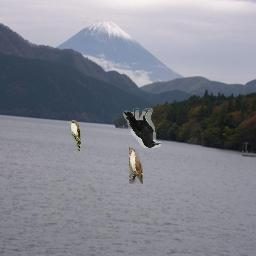Crow: (123, 108, 161, 148)
Cuckoo: (129, 147, 143, 184), (69, 120, 81, 152)
